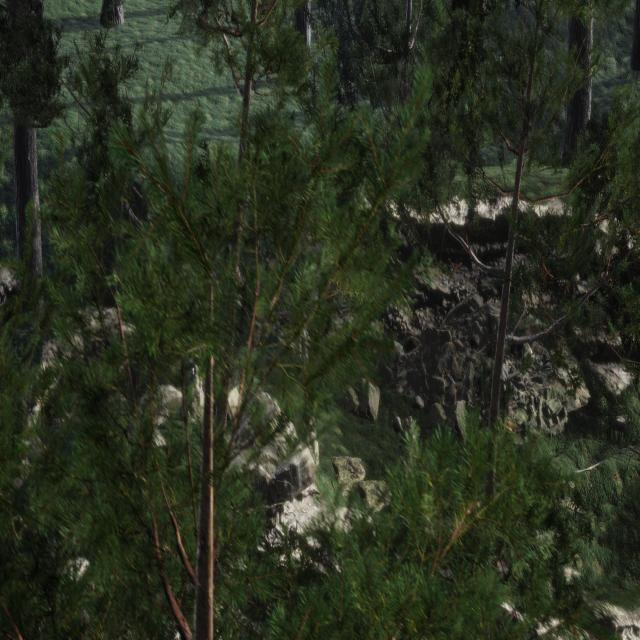Human: (295, 311, 316, 409)
